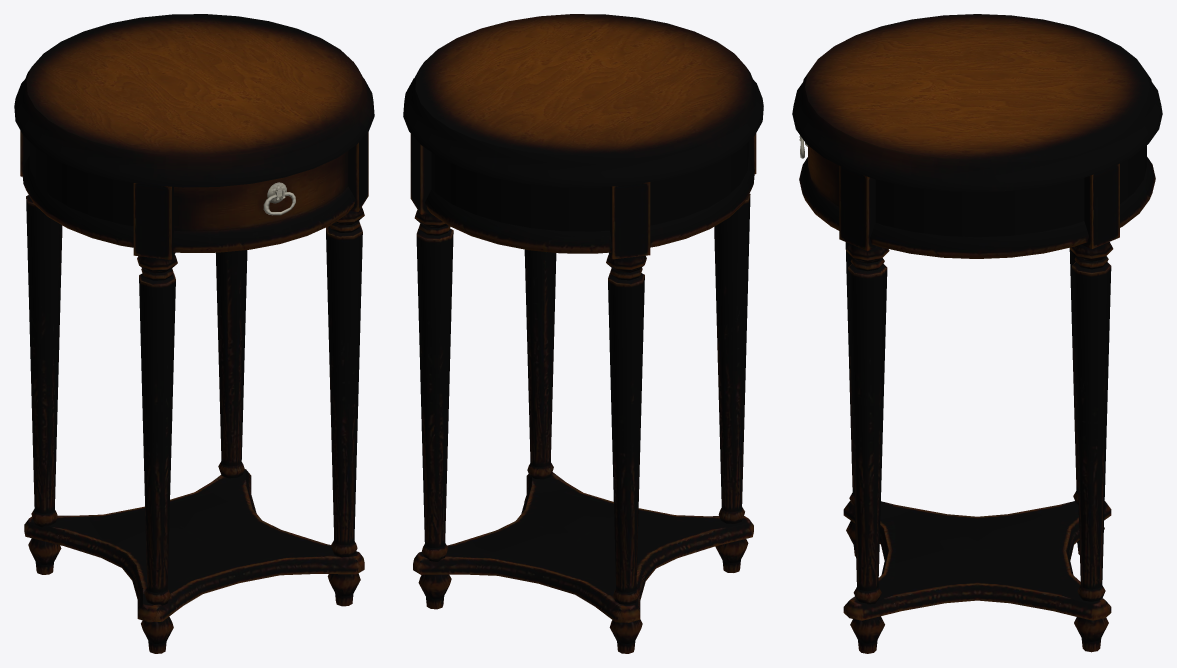
The model's file is table1.glb.
3 renders of one model, left to right at view 1: azimuth 30°, elevation 25°; view 2: azimuth 150°, elevation 25°; view 3: azimuth 270°, elevation 25°, orthographic. The views are drawn at different scales.
Visible parts, largest first — view 1: endtable1 top _low_endtable1_0; view 2: endtable1 top _low_endtable1_0; view 3: endtable1 top _low_endtable1_0.
Boxes of the visible parts, <box> form: endtable1 top _low_endtable1_0: <box>14,14,374,653</box>; endtable1 top _low_endtable1_0: <box>403,14,763,653</box>; endtable1 top _low_endtable1_0: <box>792,14,1162,653</box>.
Size of the model in its own units: 0.5038 by 0.7773 by 0.5038.
Materials: 1 (1 with a texture image).
